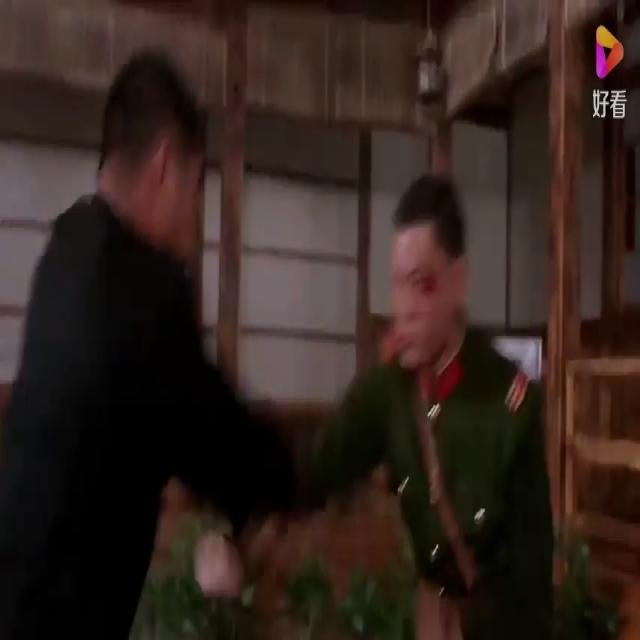fight: (6, 50, 552, 638)
